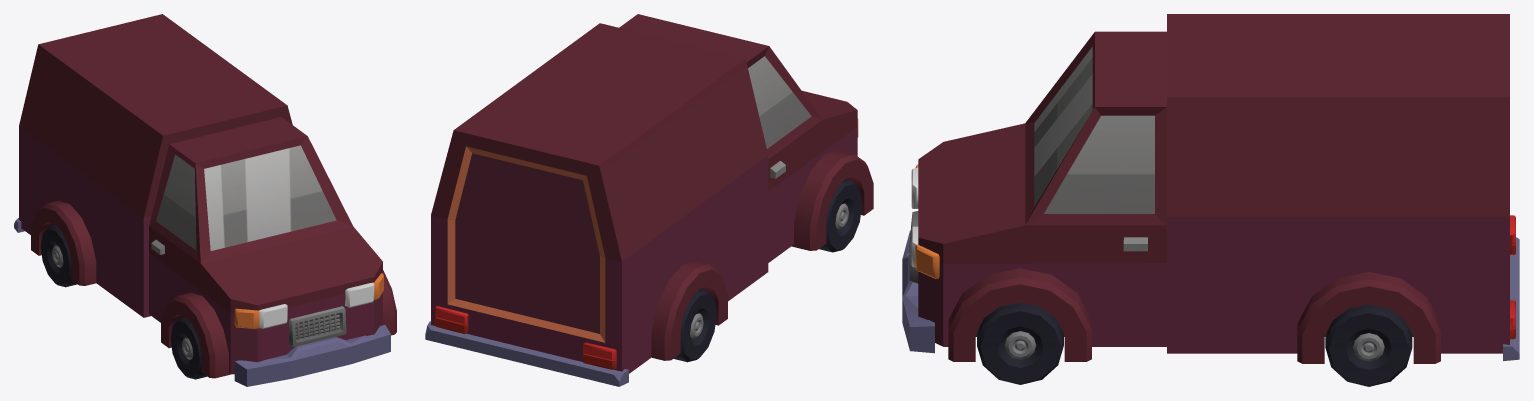
The model's file is Van_13.glb.
3 views of the same model, side by side, from view 1: azimuth 30°, elevation 25°; view 2: azimuth 150°, elevation 25°; view 3: azimuth 270°, elevation 25° (orthographic). The views are drawn at different scales.
Parts seen in each view (by area): view 1: Van_13, wheel_FR, wheel_BR; view 2: Van_13, wheel_BR, wheel_FR; view 3: Van_13, wheel_BL, wheel_FL.
Part boxes in pixels (x1=…): Van_13: x1=14, y1=14, x2=396, y2=386; wheel_FR: x1=170, y1=317, x2=207, y2=379; wheel_BR: x1=40, y1=224, x2=77, y2=287; Van_13: x1=425, y1=14, x2=873, y2=386; wheel_BR: x1=673, y1=289, x2=716, y2=362; wheel_FR: x1=819, y1=179, x2=861, y2=252; Van_13: x1=902, y1=14, x2=1519, y2=363; wheel_BL: x1=1325, y1=304, x2=1412, y2=386; wheel_FL: x1=977, y1=302, x2=1063, y2=384.
Bounding box in the file's own units: 1.23 × 1.19 × 2.48.
5 materials, 5 textured.
